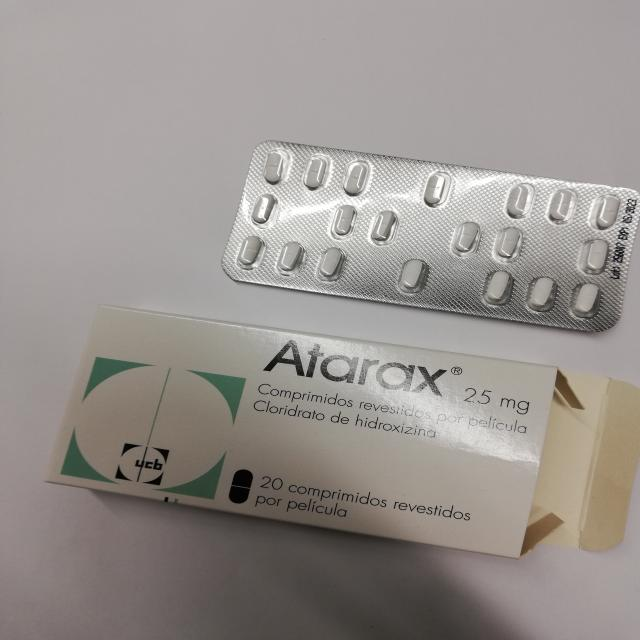Pill: (316, 200, 368, 243), (294, 152, 339, 198), (574, 234, 619, 276), (474, 262, 513, 310), (252, 144, 294, 188), (418, 168, 458, 213), (365, 204, 405, 249), (574, 281, 617, 322), (524, 270, 561, 316), (498, 179, 537, 222), (389, 257, 433, 293), (270, 235, 308, 276), (593, 186, 626, 233), (544, 181, 576, 229), (311, 244, 350, 282), (344, 156, 376, 202), (446, 220, 484, 258), (242, 192, 282, 228), (234, 233, 268, 271), (493, 224, 524, 261)
